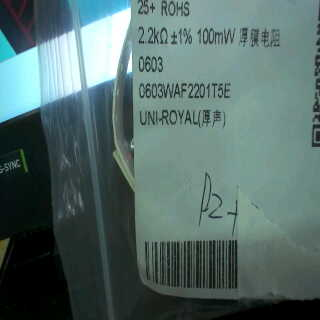2.2kR: (137, 23, 169, 47)
